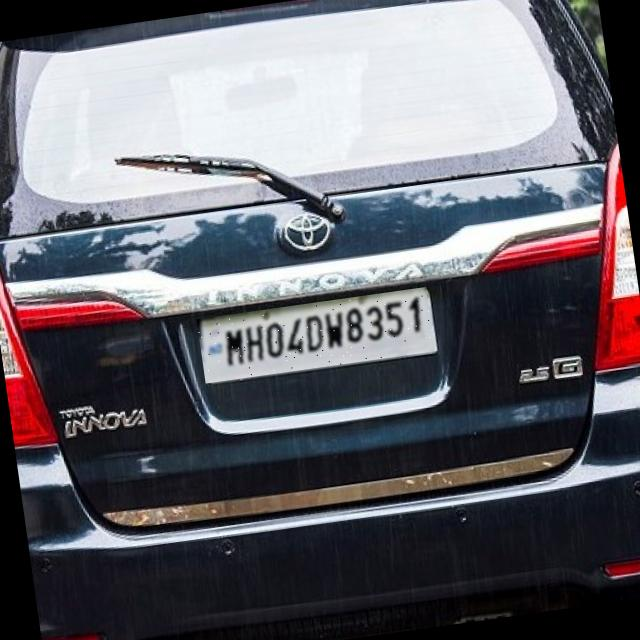Plate: (198, 288, 437, 385)
